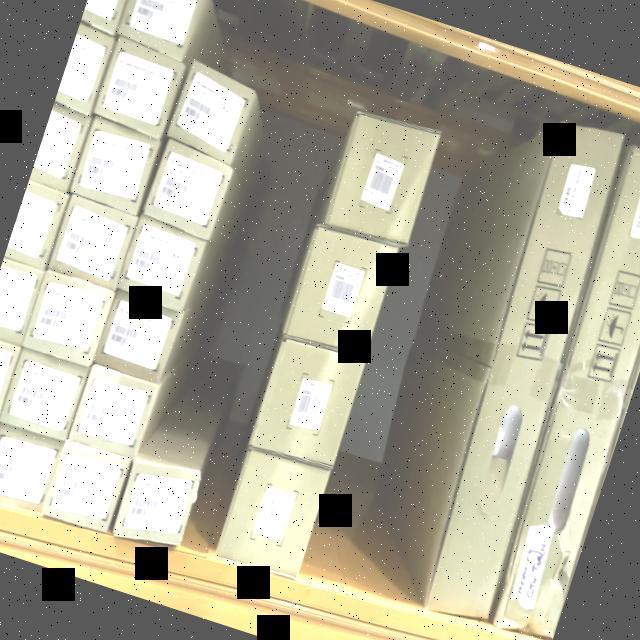box: (427, 124, 621, 619), (250, 336, 366, 468), (286, 225, 398, 356), (328, 122, 438, 243), (220, 456, 326, 577), (72, 118, 159, 210), (24, 274, 111, 366), (146, 144, 231, 238), (95, 44, 183, 134), (0, 350, 86, 441), (118, 220, 204, 310), (51, 198, 135, 288), (172, 67, 252, 158), (72, 371, 154, 458), (115, 462, 196, 547), (96, 297, 178, 380), (45, 448, 127, 530), (118, 0, 207, 58), (0, 430, 58, 511)
